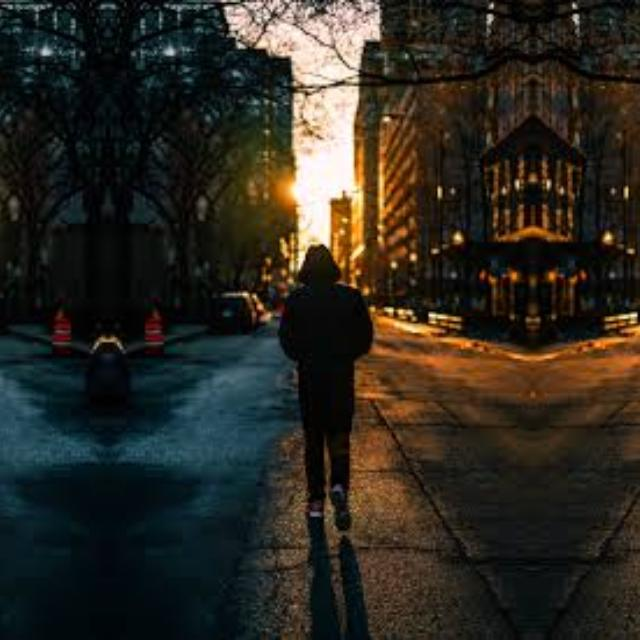person: (277, 240, 381, 528)
